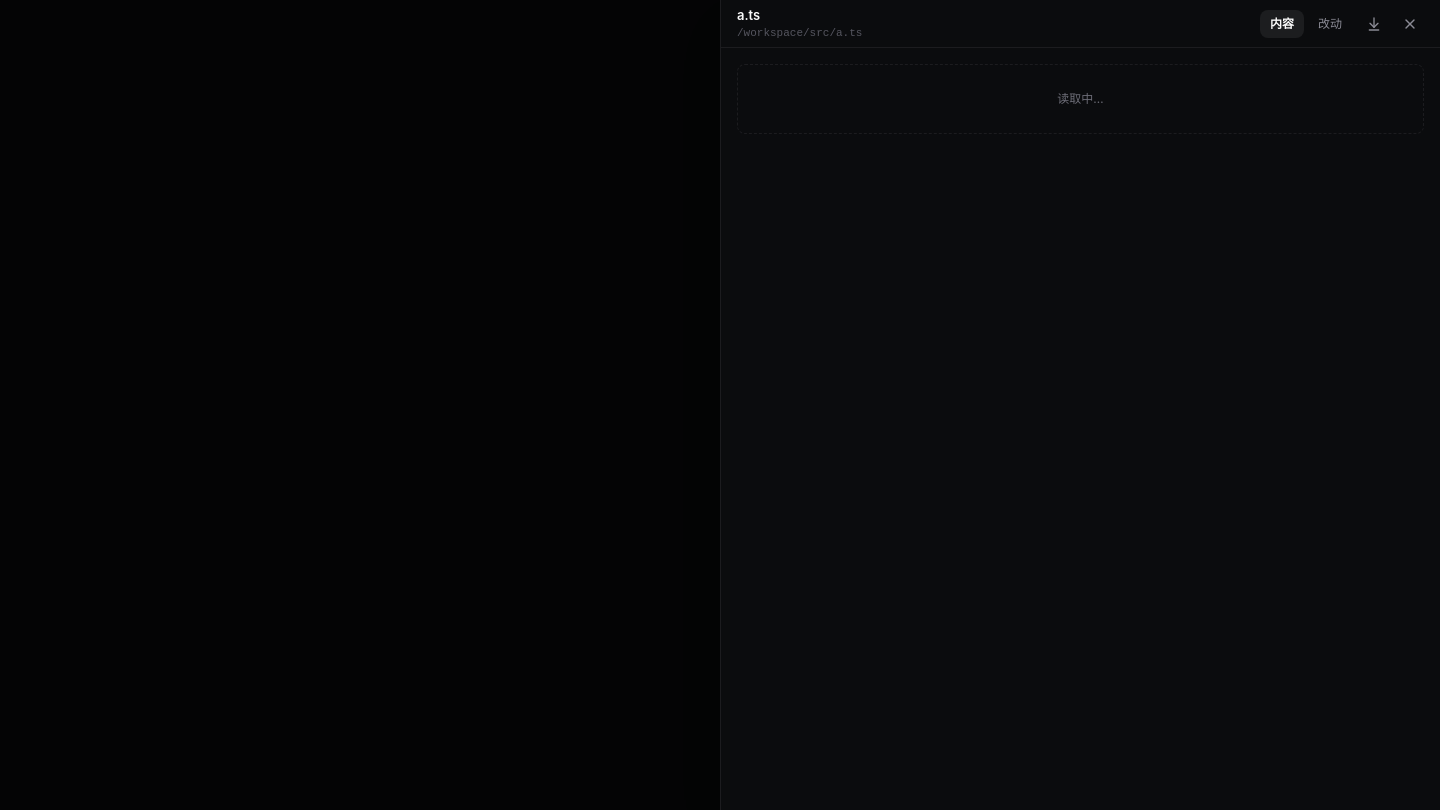
SandboxFileViewer › 「跳到上次修改」先切到改动页,再滚到最后一个补丁
What coordinates should you click on to do the following:
click the button named "跳到上次修改"
I would click on:
 (1374, 24)
Its box is [1360,10,1388,38].
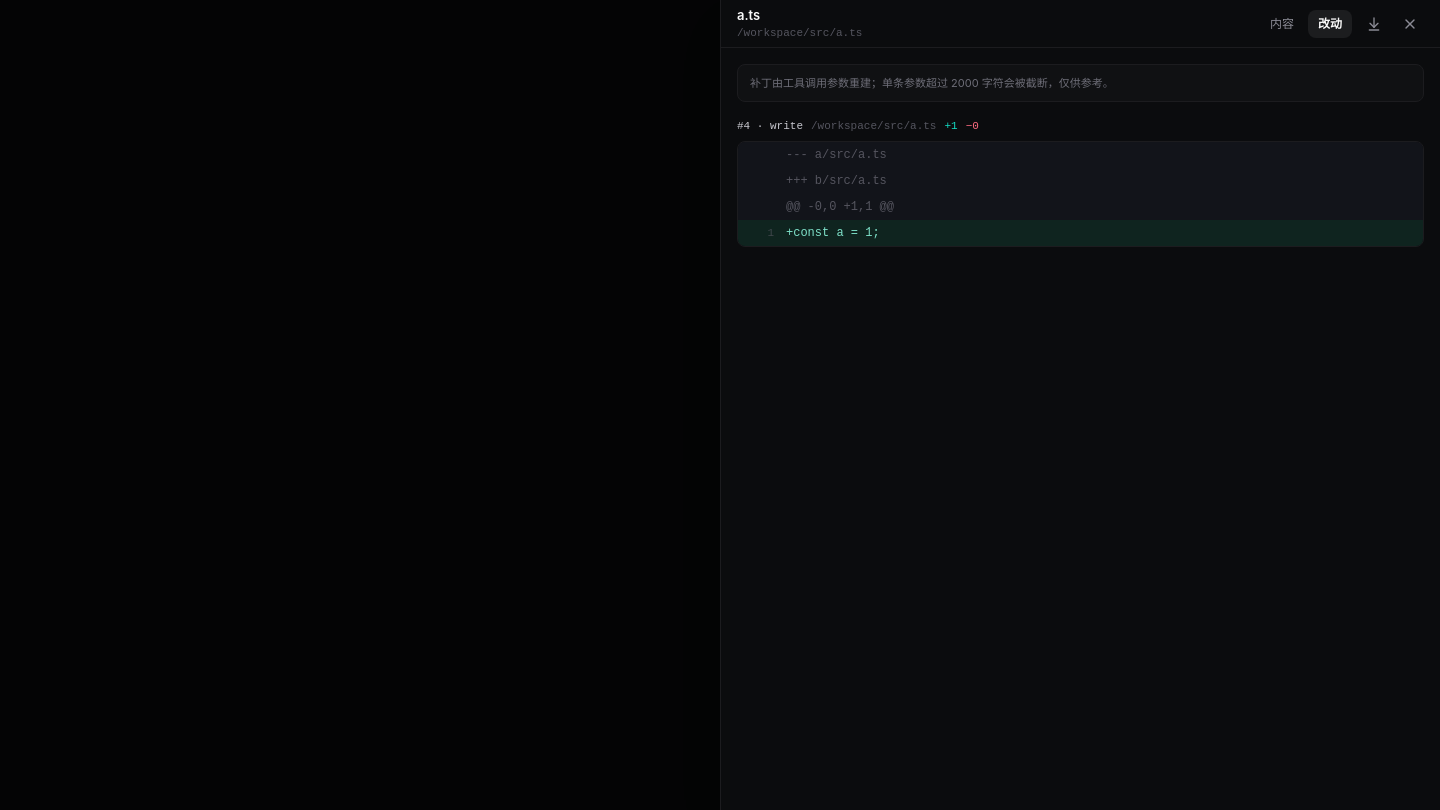
Now the text "#4 · write" is shown, box [737,118,803,134]
